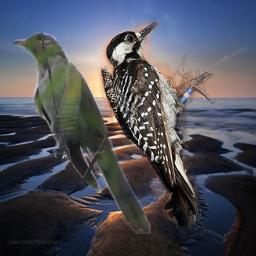Cuckoo: (13, 32, 156, 235)
Woodpecker: (91, 14, 229, 229)
